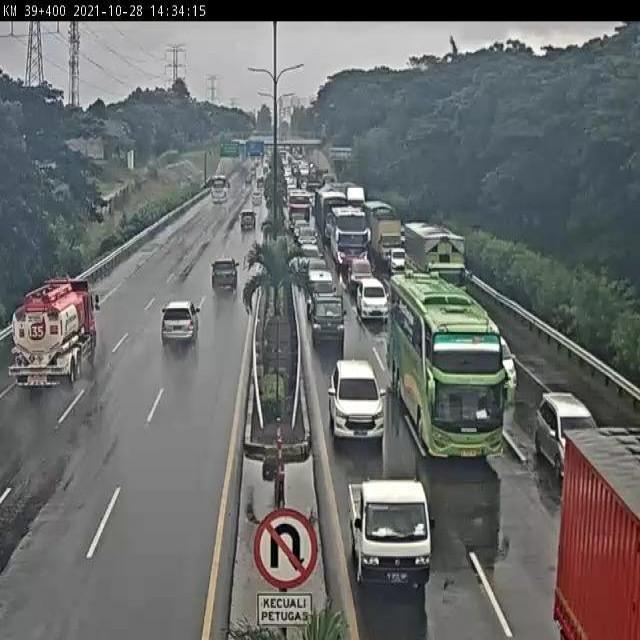bus-l-: (388, 269, 507, 460), (330, 205, 370, 263)
car: (347, 479, 433, 592), (327, 357, 388, 444), (479, 324, 517, 387), (307, 296, 347, 349), (355, 278, 393, 322), (302, 260, 335, 296), (208, 259, 239, 296), (344, 258, 374, 286), (300, 240, 321, 268)
